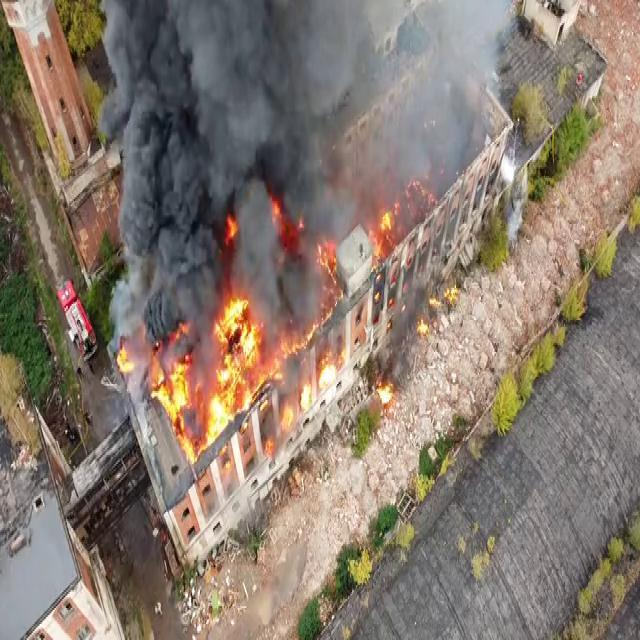fire: (222, 299, 260, 373), (151, 346, 192, 394), (196, 381, 234, 417), (260, 336, 295, 370), (366, 211, 392, 251), (318, 244, 336, 300), (405, 179, 430, 210), (262, 406, 278, 454), (162, 392, 187, 418), (118, 347, 138, 377), (282, 400, 296, 436), (393, 206, 409, 237), (280, 213, 298, 240), (378, 380, 394, 410), (224, 214, 236, 250), (318, 368, 338, 386), (302, 379, 314, 408), (318, 352, 342, 366), (444, 286, 457, 304), (418, 318, 429, 334)
smoke: (123, 116, 178, 249), (220, 5, 314, 70), (208, 70, 296, 138), (308, 4, 374, 76), (180, 142, 218, 256), (154, 61, 208, 140), (166, 0, 222, 75), (127, 242, 172, 334), (276, 134, 324, 212), (104, 1, 162, 63), (222, 137, 266, 210), (294, 76, 350, 126), (241, 188, 269, 286), (438, 3, 483, 63), (178, 263, 218, 317), (430, 96, 466, 156), (112, 70, 156, 118), (283, 245, 317, 305), (400, 119, 438, 172), (114, 286, 135, 319)
